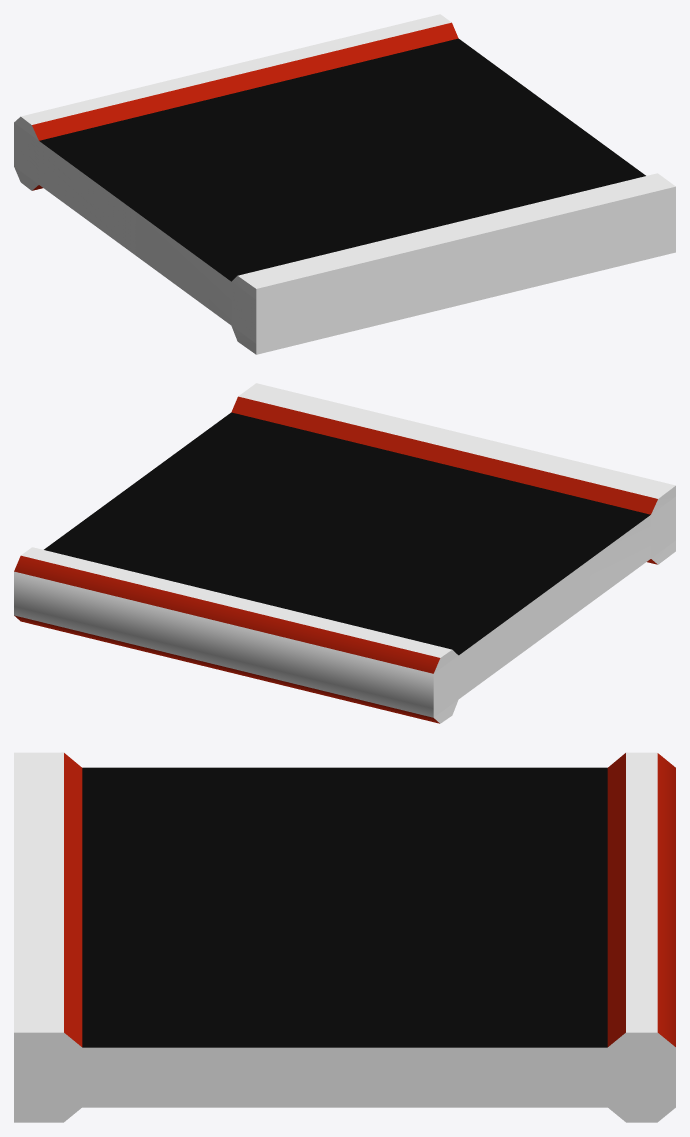
The model's file is S_assete_basement_platform_2.fbx.
3 views of the same model, one above another, from view 1: azimuth 30°, elevation 25°; view 2: azimuth 150°, elevation 25°; view 3: azimuth 270°, elevation 25° (orthographic). The views are drawn at different scales.
Visible parts, largest first — view 1: platforme_2; view 2: platforme_2; view 3: platforme_2.
Boxes of the visible parts, <box> form: platforme_2: <box>14,14,675,354</box>; platforme_2: <box>14,383,675,723</box>; platforme_2: <box>14,752,675,1122</box>.
Bounding box in the file's own units: 200 × 30 × 200.
